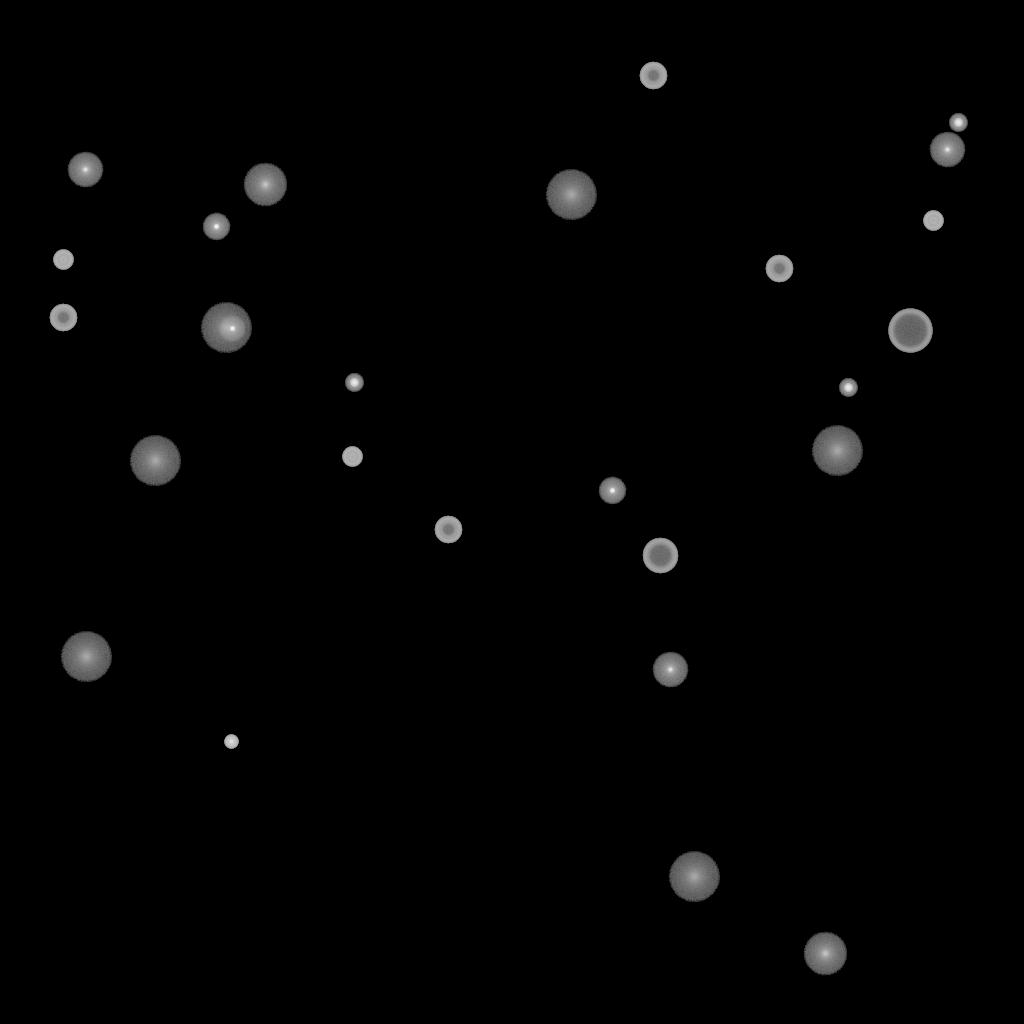depth:-10: (598, 477, 626, 505), (218, 315, 246, 343), (202, 213, 230, 241)
depth:-20: (949, 114, 967, 132), (839, 379, 857, 397), (345, 374, 363, 392)
depth:-30: (224, 735, 238, 749)
depth:-40: (53, 250, 73, 270), (923, 211, 943, 231), (342, 447, 362, 467)
depth:-50: (765, 255, 793, 283), (639, 62, 667, 90), (49, 304, 77, 332), (434, 516, 462, 544)
depth:-60: (642, 538, 678, 574)
depth:-70: (888, 309, 932, 353)
depth:0: (67, 152, 103, 188), (929, 132, 965, 168), (652, 652, 688, 688)
depth:10: (243, 163, 287, 207), (803, 932, 847, 976)
depth:20: (668, 852, 720, 902), (545, 170, 597, 220), (60, 632, 112, 682), (200, 303, 252, 353), (811, 426, 863, 476), (129, 436, 181, 486)
